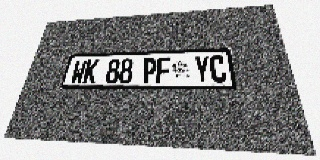8: (118, 58, 134, 83), (105, 59, 121, 83)
C: (209, 55, 227, 83)
F: (156, 57, 171, 83)
K: (82, 59, 99, 84)
P: (141, 57, 157, 83)
W: (70, 60, 87, 84)
Y: (194, 56, 211, 83)
